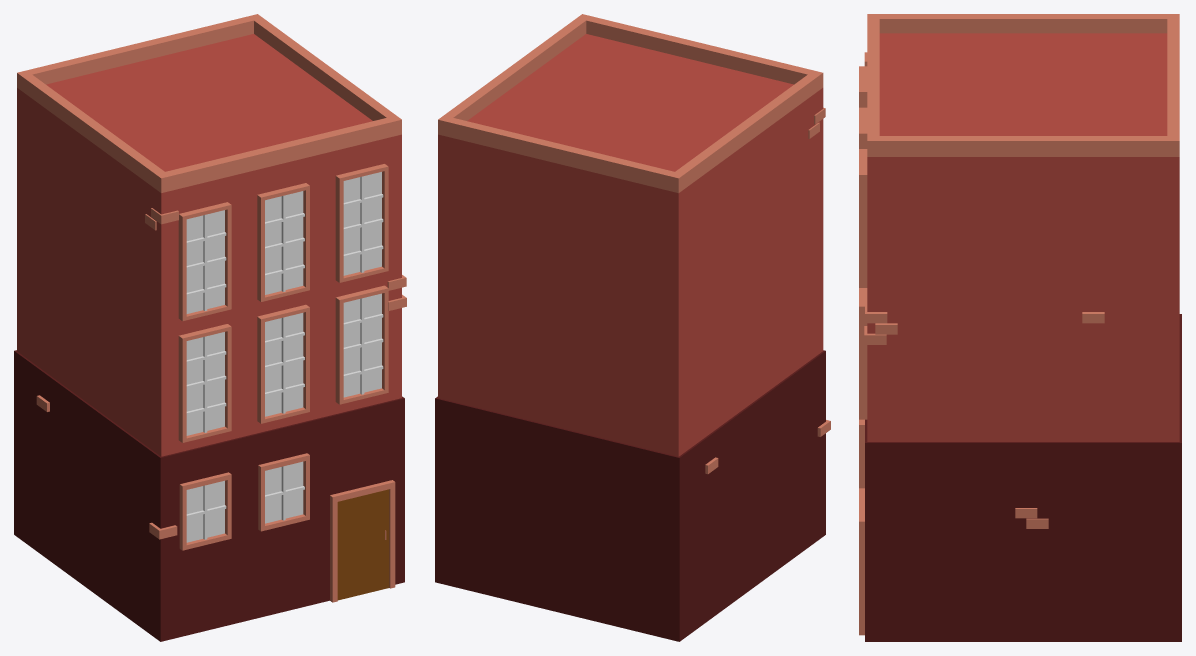
File: niceBuildingRed.fbx
3 renders of one model, left to right at view 1: azimuth 30°, elevation 25°; view 2: azimuth 150°, elevation 25°; view 3: azimuth 270°, elevation 25°, orthographic. The views are drawn at different scales.
Parts seen in each view (by area): view 1: Cube; view 2: Cube; view 3: Cube.
Part boxes in pixels (x1,y1,x2,y2): Cube: [14, 14, 406, 641]; Cube: [435, 14, 830, 641]; Cube: [859, 14, 1181, 641].
Bounding box in the file's own units: 384 × 681 × 398.
